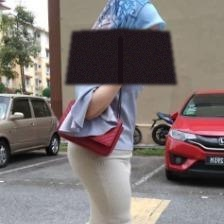Cadar_Niqab: (65, 0, 176, 84)
